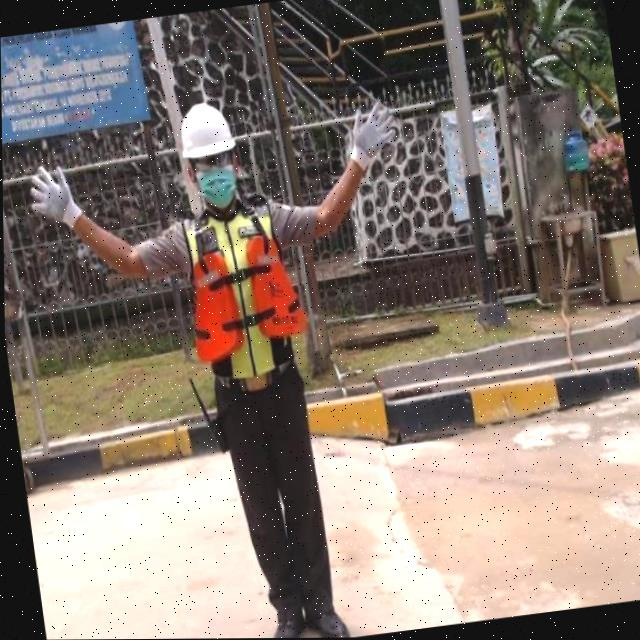goggles_on: (189, 142, 241, 182)
